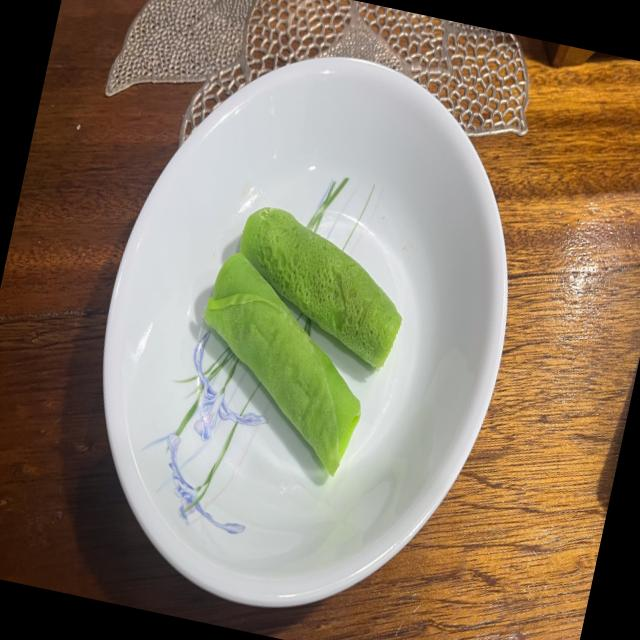Kuih-Ketayap: (203, 253, 361, 475), (240, 206, 401, 369)
